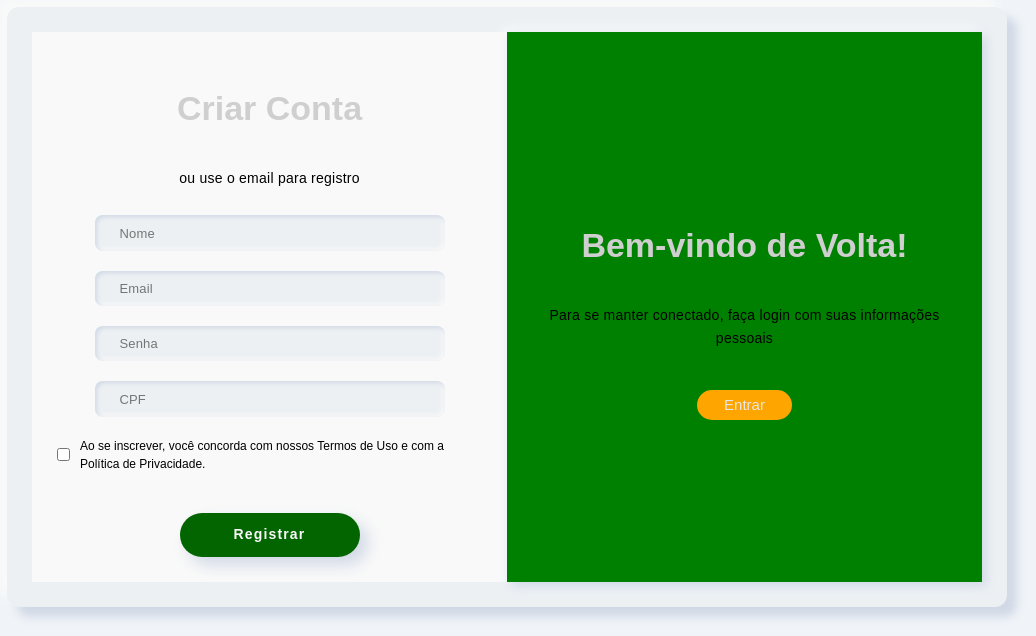
Test: Testes da página Register › Formata o CPF corretamente
The width and height of the screenshot is (1036, 636).
Type "12345678900" into the field with placeholder "CPF" at x=270, y=399, box 94,382 -> 444,417
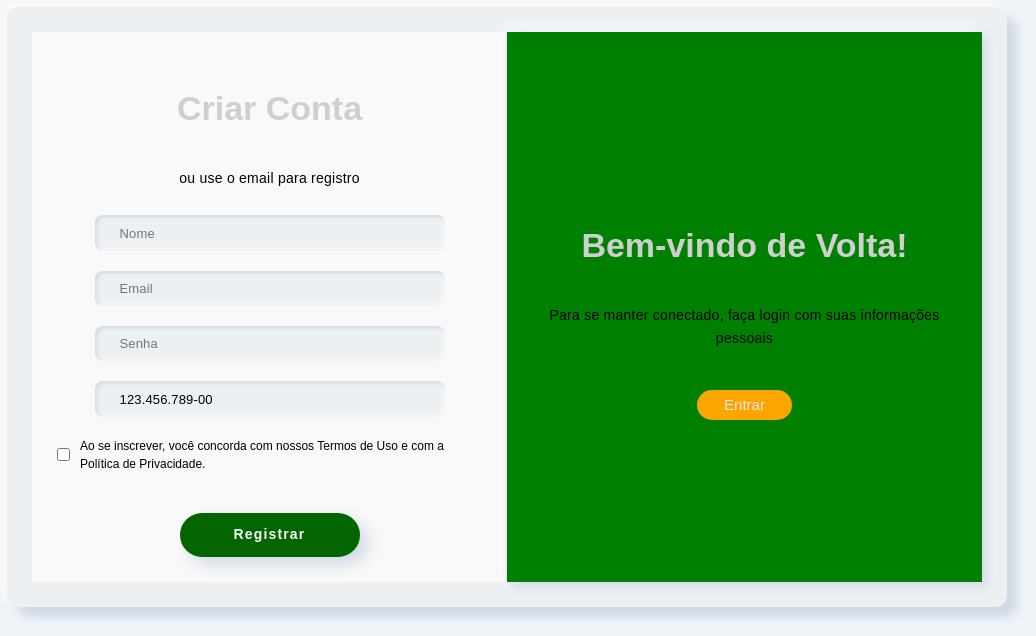
Expected: the field with placeholder "CPF" holds "123.456.789-00", 94,382 -> 444,417
